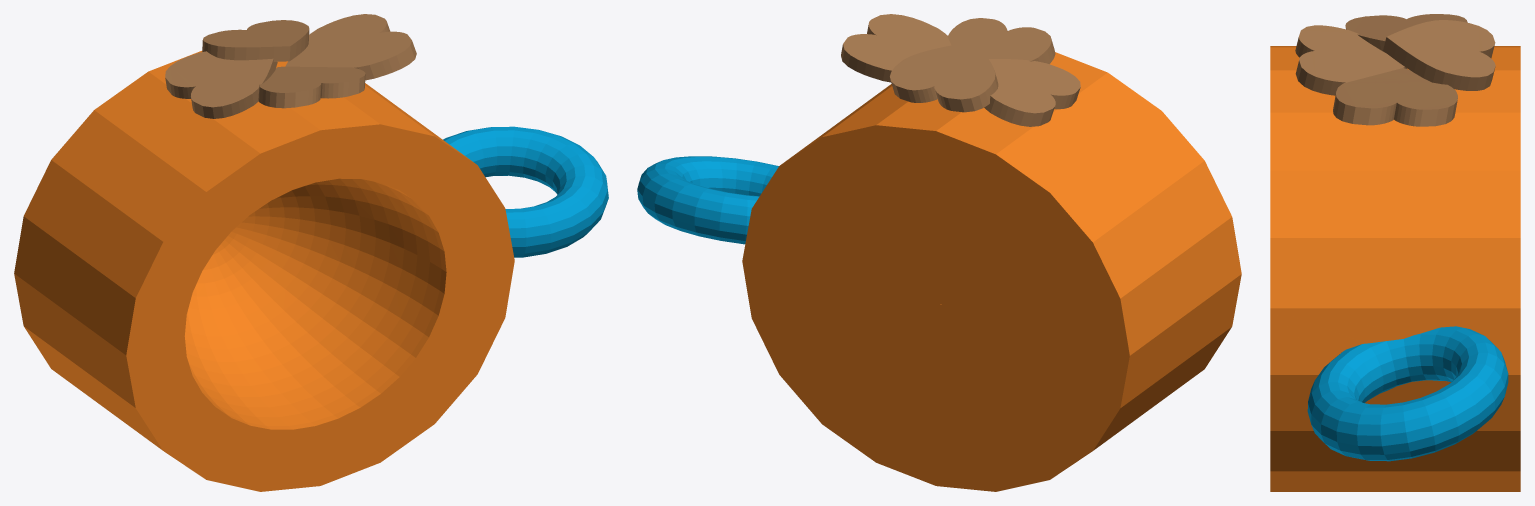
Rendered from tinker.obj.
3 renders of one model, left to right at view 1: azimuth 30°, elevation 25°; view 2: azimuth 150°, elevation 25°; view 3: azimuth 270°, elevation 25°, orthographic. The views are drawn at different scales.
Visible parts, largest first — view 1: group_0_16089887, group_0_11107152, group_0_40919; view 2: group_0_16089887, group_0_11107152, group_0_40919; view 3: group_0_16089887, group_0_40919, group_0_11107152.
Boxes of the visible parts, x1,y1,x2,y2 form: group_0_16089887: (14, 51, 514, 491); group_0_11107152: (165, 14, 416, 118); group_0_40919: (443, 126, 608, 257); group_0_16089887: (742, 52, 1241, 491); group_0_11107152: (841, 14, 1080, 126); group_0_40919: (637, 156, 778, 244); group_0_16089887: (1270, 46, 1520, 491); group_0_40919: (1307, 326, 1508, 461); group_0_11107152: (1295, 14, 1495, 126).
Bounding box in the file's own units: 55 × 39 × 20.
